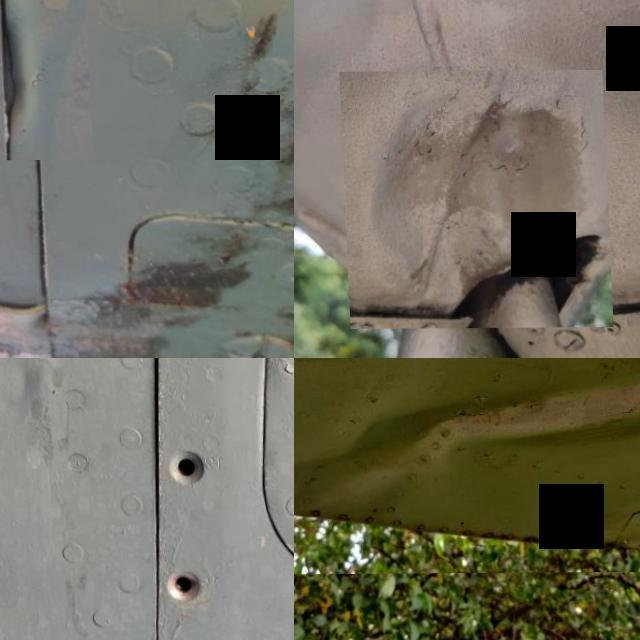Crack: (303, 358, 361, 391)
Dent: (294, 358, 640, 575), (338, 71, 610, 329), (0, 0, 89, 160), (294, 450, 376, 566), (294, 194, 364, 261)
Missing_Fastener: (122, 542, 228, 630), (132, 421, 228, 514), (138, 358, 236, 385)
